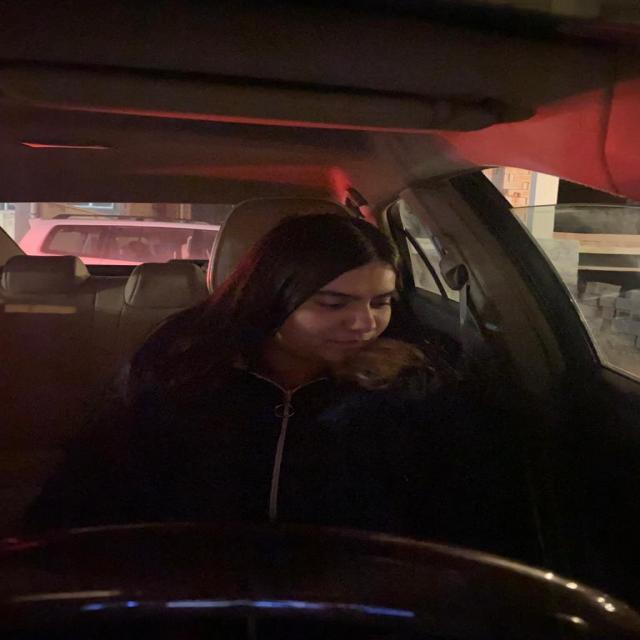person: (234, 221, 427, 384)
